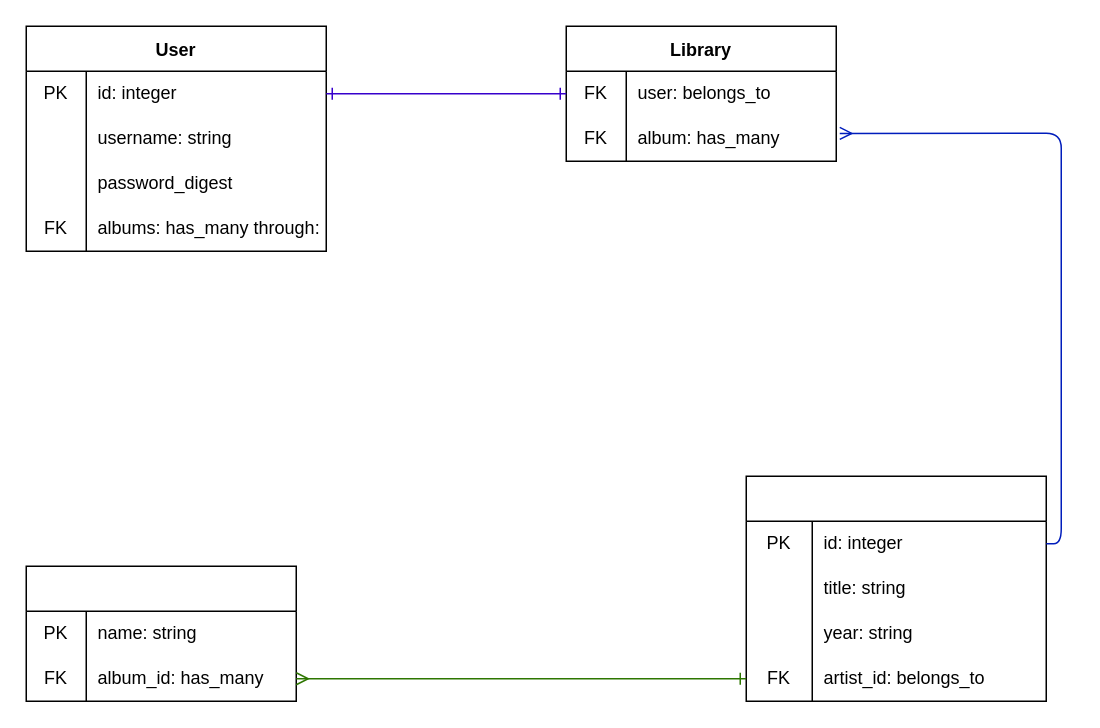
Image size: 1100x728. Some labels were removed from this diagram. The box of each missing label's shape, as (x1, y1, x2, y2) in pixels:
album: (745, 475, 1046, 701)
artist: (25, 565, 296, 701)
